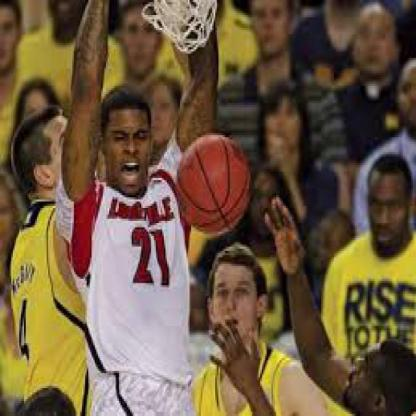basketball: (177, 134, 249, 230)
